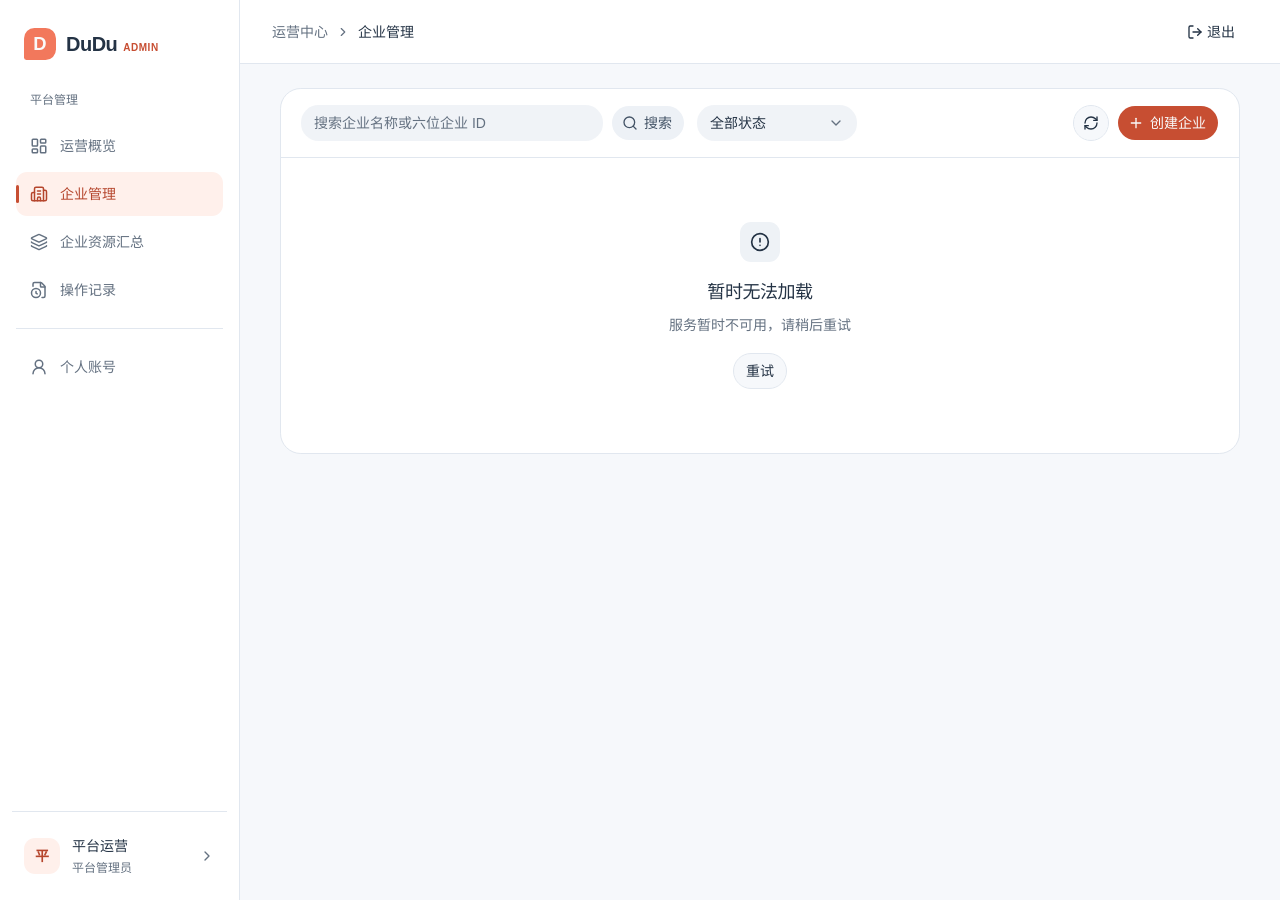
Test: 列表失败不冒充空数据，重试为空时才显示开通入口
Expected: the message shows "服务暂时不可用", [669,317,851,333]
Expected: the text "暂无企业" is not shown
What coordinates should you click on to do the following:
click the button "重试"
I would click on:
 (760, 371)
Its box is [733,353,787,389].
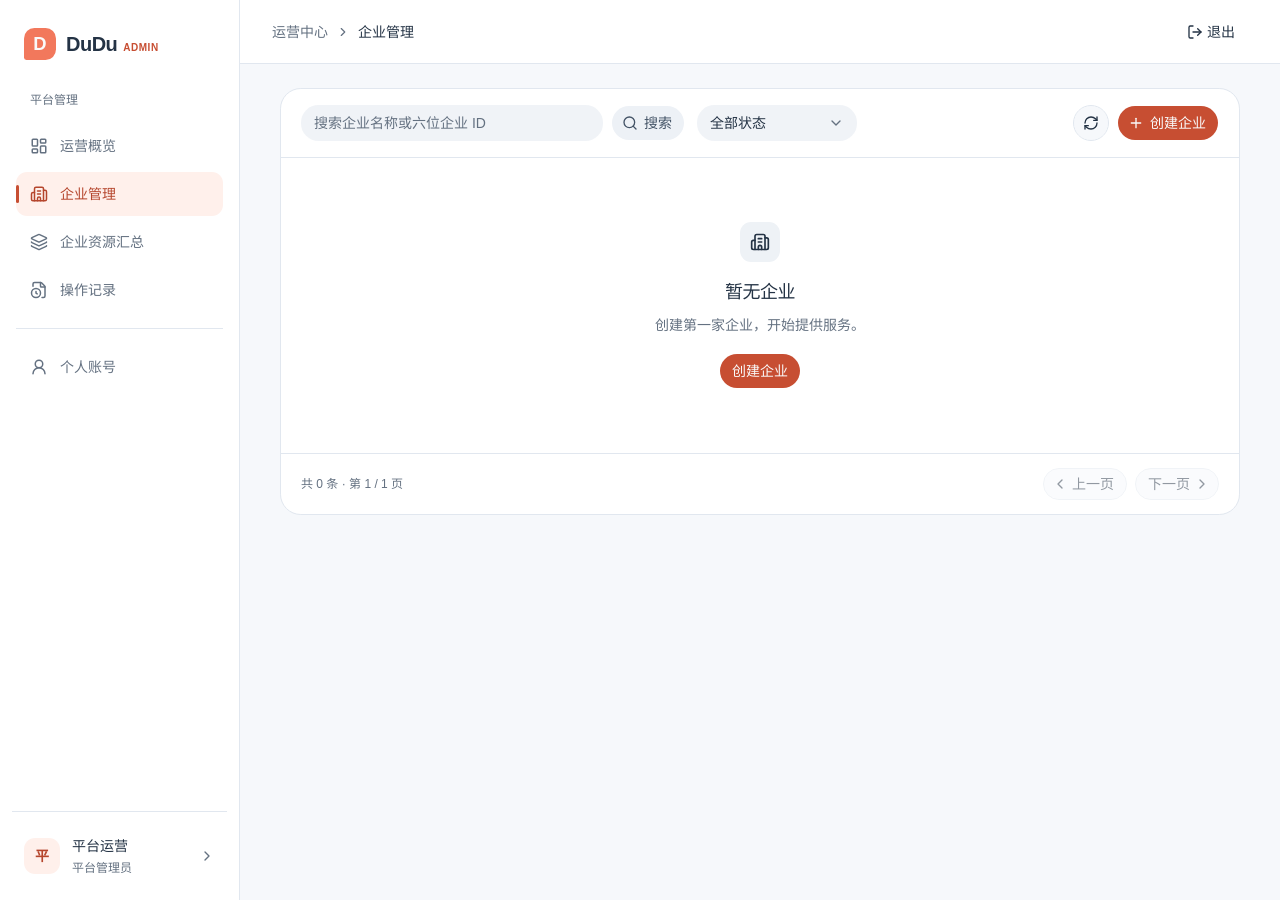
Expected: the text "暂无企业" is shown, [725,278,795,306]
